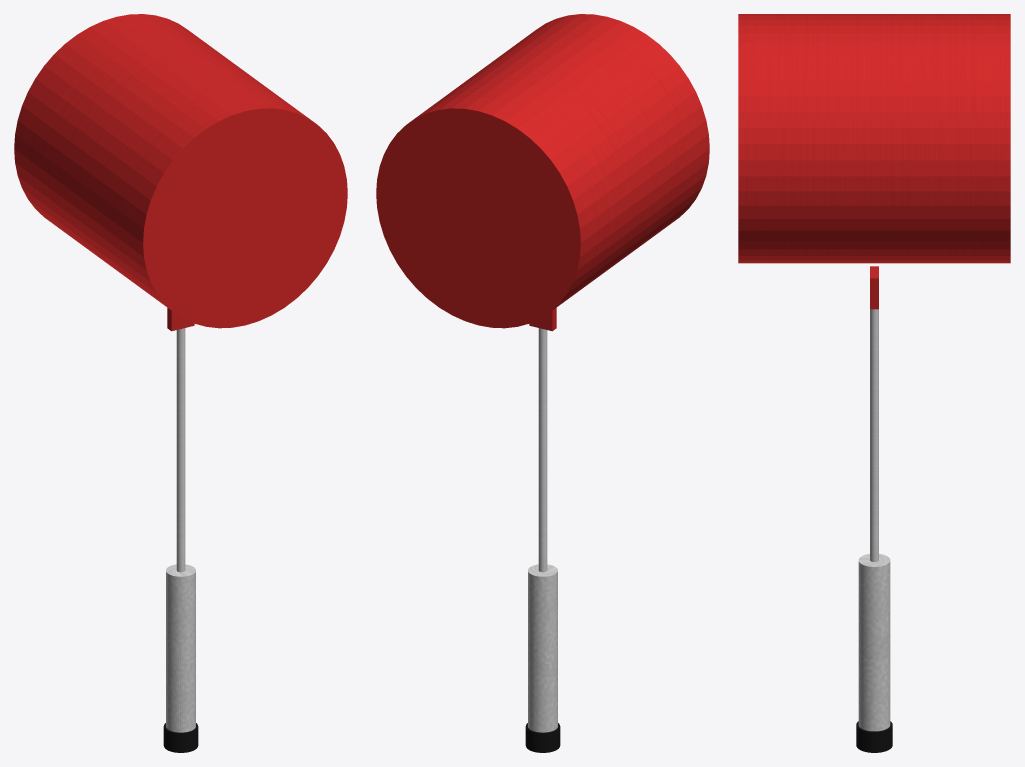
3 renders of one model, left to right at view 1: azimuth 30°, elevation 25°; view 2: azimuth 150°, elevation 25°; view 3: azimuth 270°, elevation 25°, orthographic. The views are drawn at different scales.
Parts seen in each view (by area): view 1: part_1, part_5, part_3, part_4; view 2: part_1, part_5, part_3, part_4; view 3: part_1, part_5, part_3, part_4.
Part boxes in pixels (x1,y1,x2,y2): part_1: (14,14,347,328); part_5: (166,564,195,732); part_3: (176,328,185,572); part_4: (163,723,198,752); part_1: (376,14,709,328); part_5: (528,564,557,732); part_3: (538,328,547,572); part_4: (525,723,560,752); part_1: (738,14,1010,263); part_5: (858,554,890,731); part_3: (870,309,878,561); part_4: (856,721,892,752).
Bounding box in the file's own units: 0.3143 × 1 × 0.3429.
Materials: 6 (6 with a texture image).
